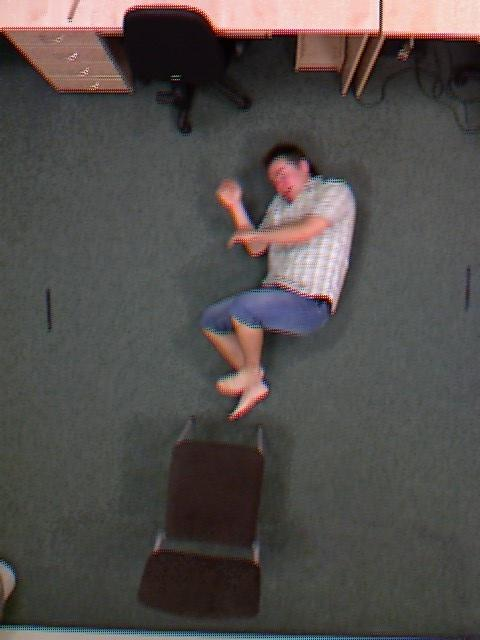fall: (169, 162, 384, 391)
